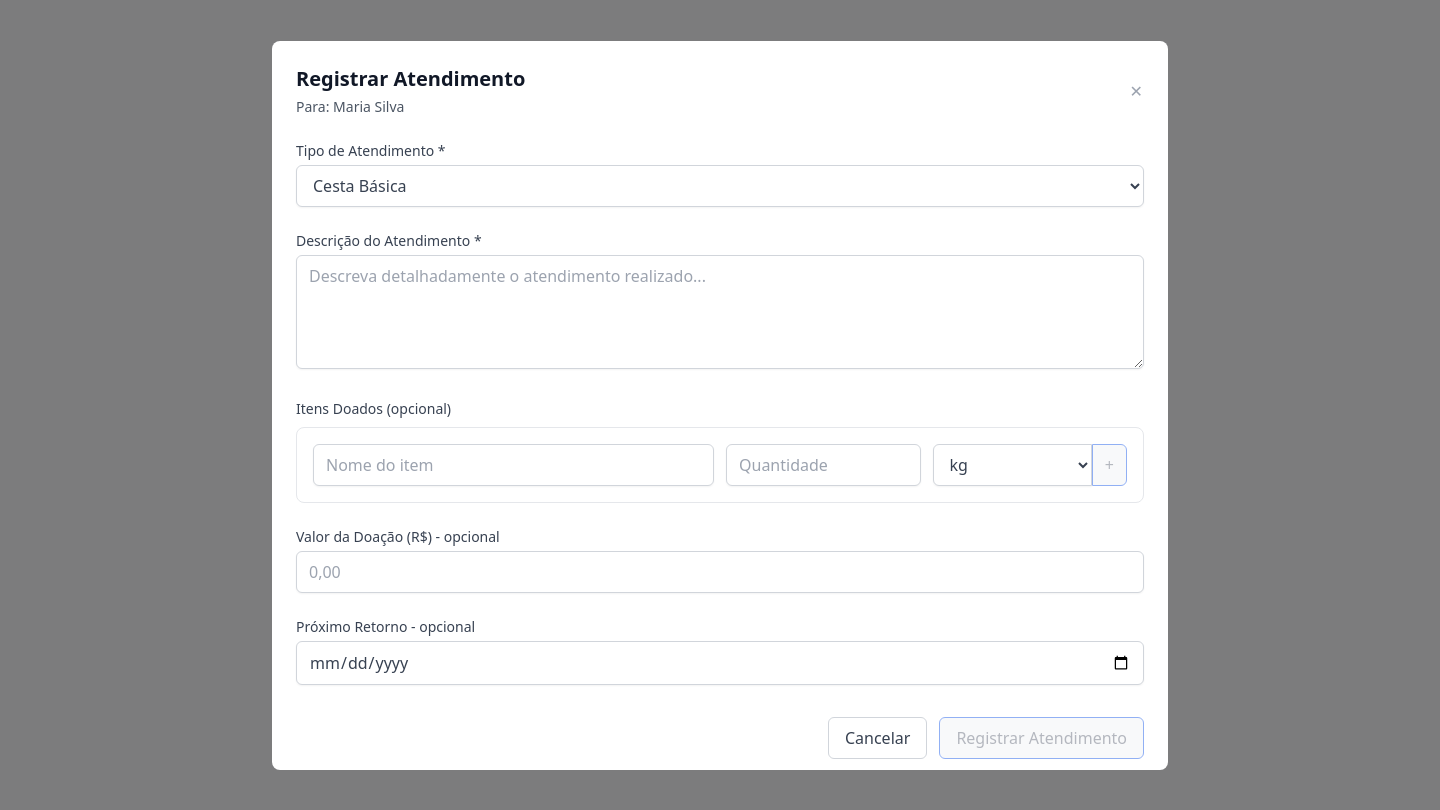
Test case: AtendimentoModal › Itens doados functionality › should allow removing an item
Step 1. Type "Feijao" into the field with placeholder "Nome do item" → (514, 464), box x1=313 y1=444 x2=714 y2=486
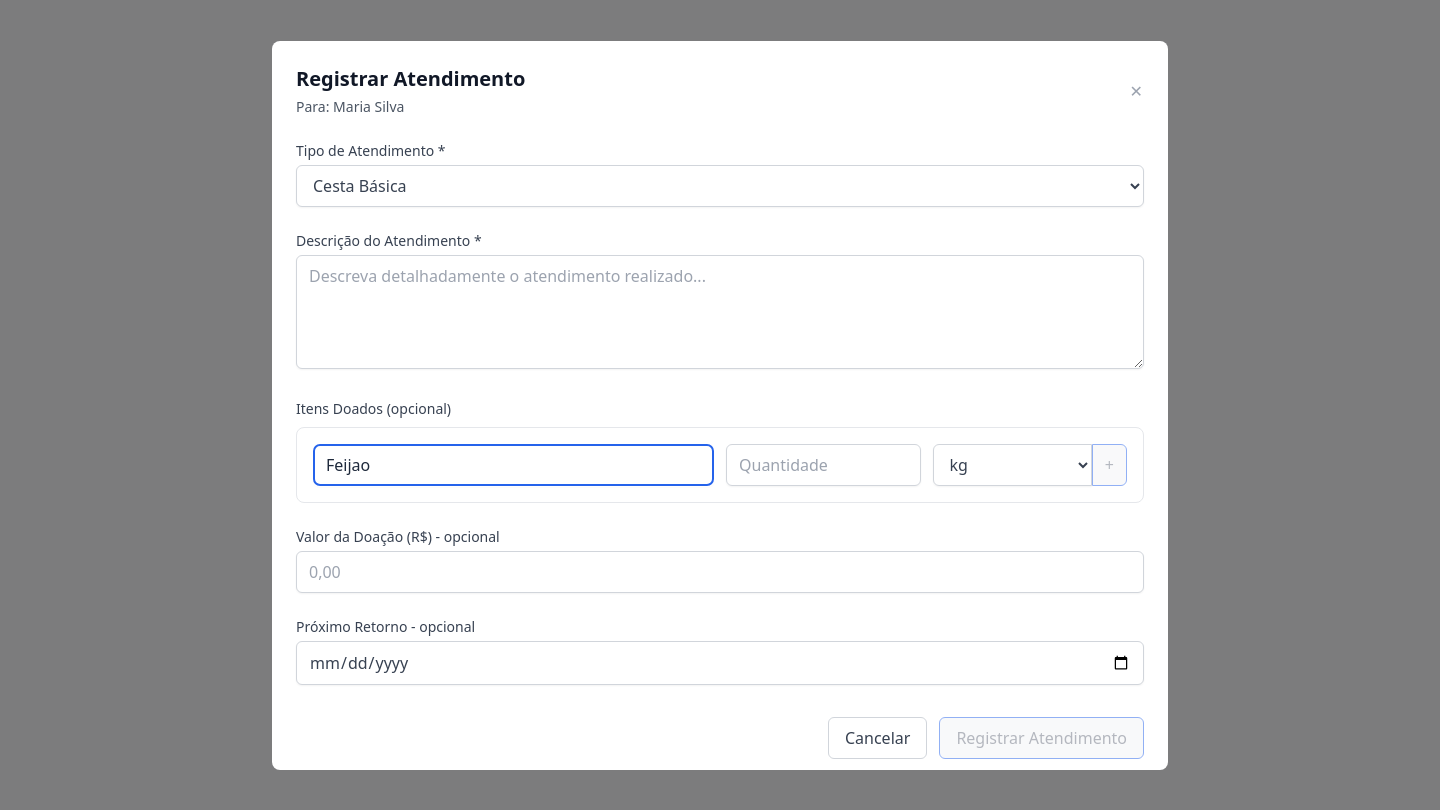
Step 2. Type "2" into the number field with placeholder "Quantidade" → (823, 464), box x1=726 y1=444 x2=920 y2=486
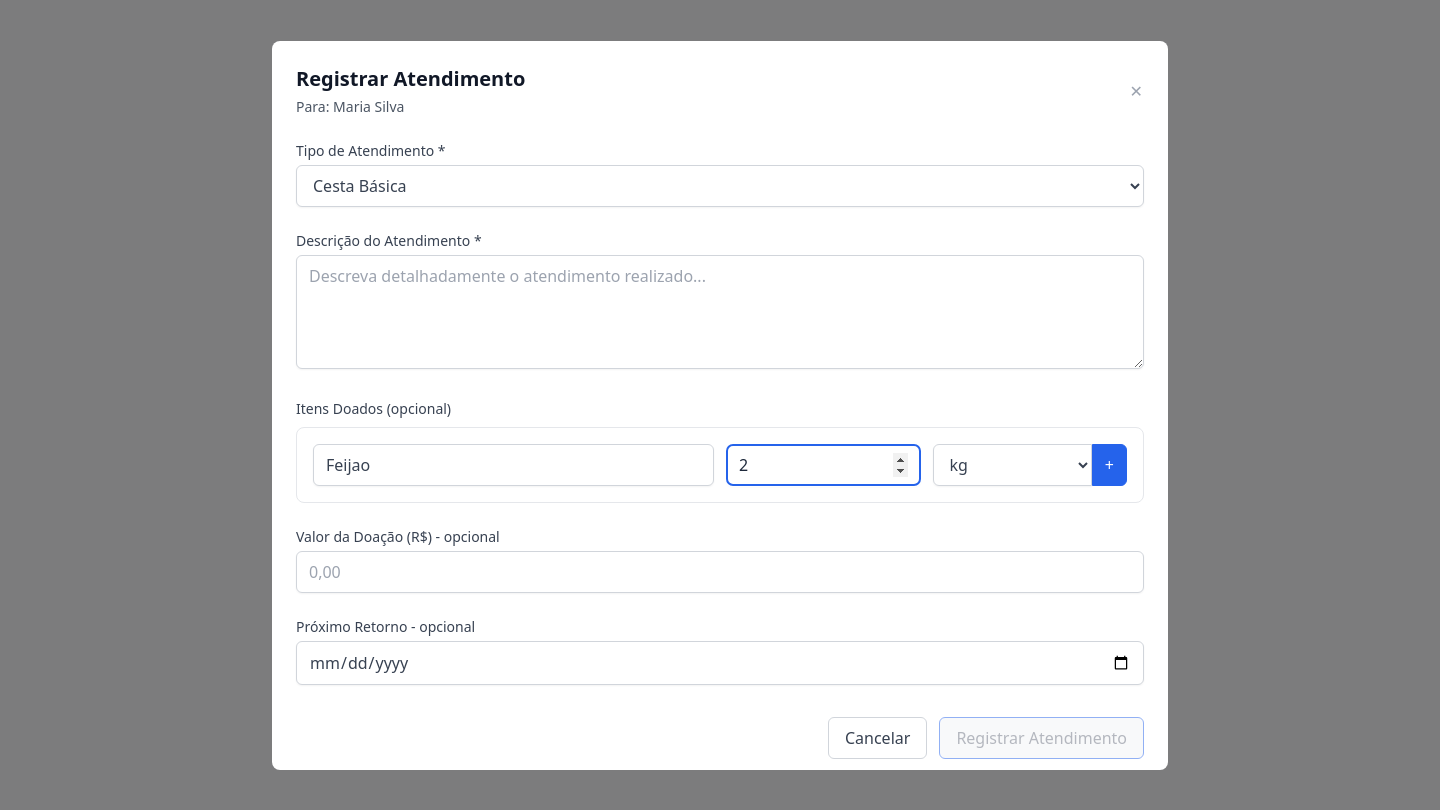
Step 3. Click the button "+" → (1109, 464), box x1=1092 y1=444 x2=1127 y2=486
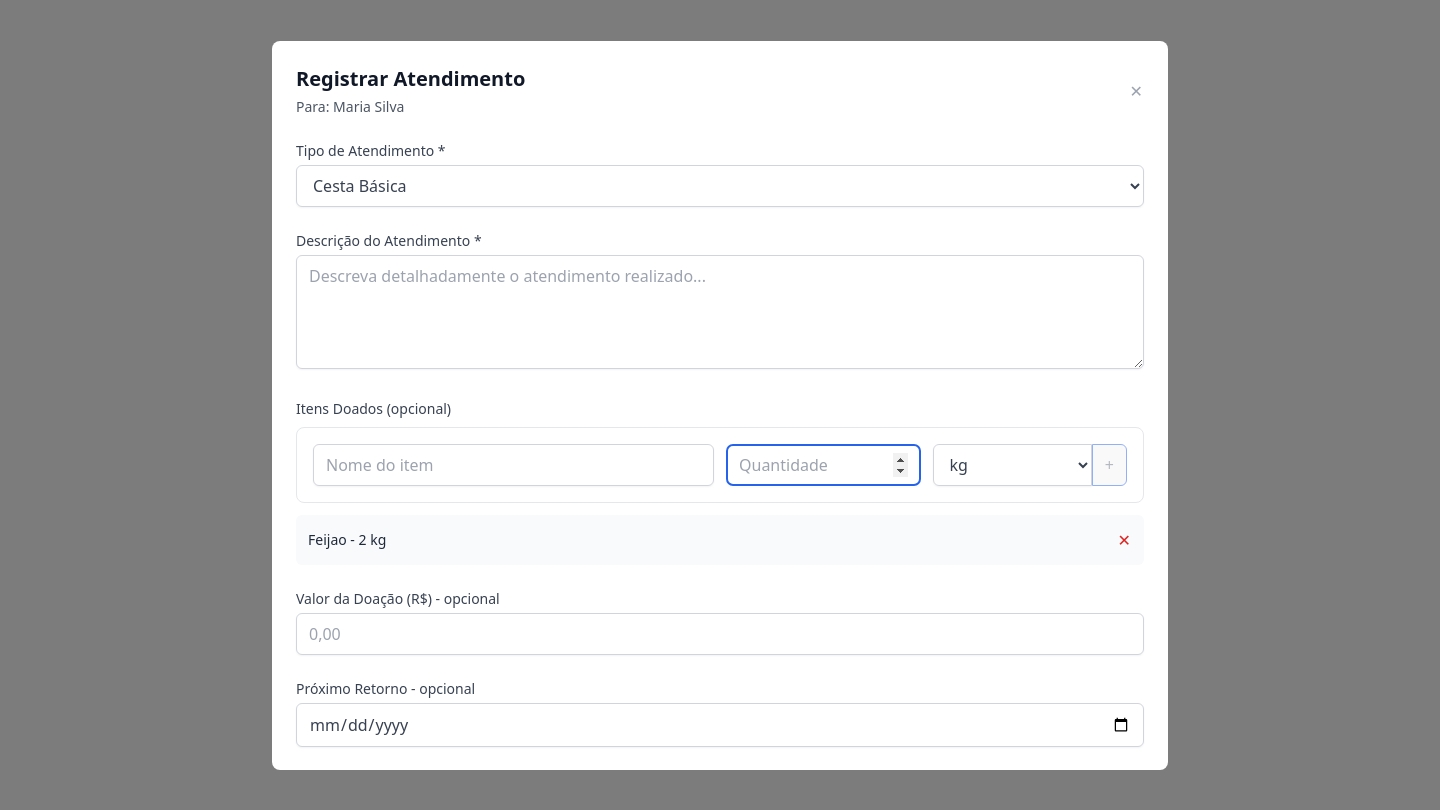
Check: the text "Feijao - 2 kg" is shown, box x1=308 y1=530 x2=386 y2=550
The first remove button should be for the item (not the modal close)
Step 4. Click the button "✕" in the row of "kg" → (1124, 540), box x1=1117 y1=526 x2=1132 y2=552
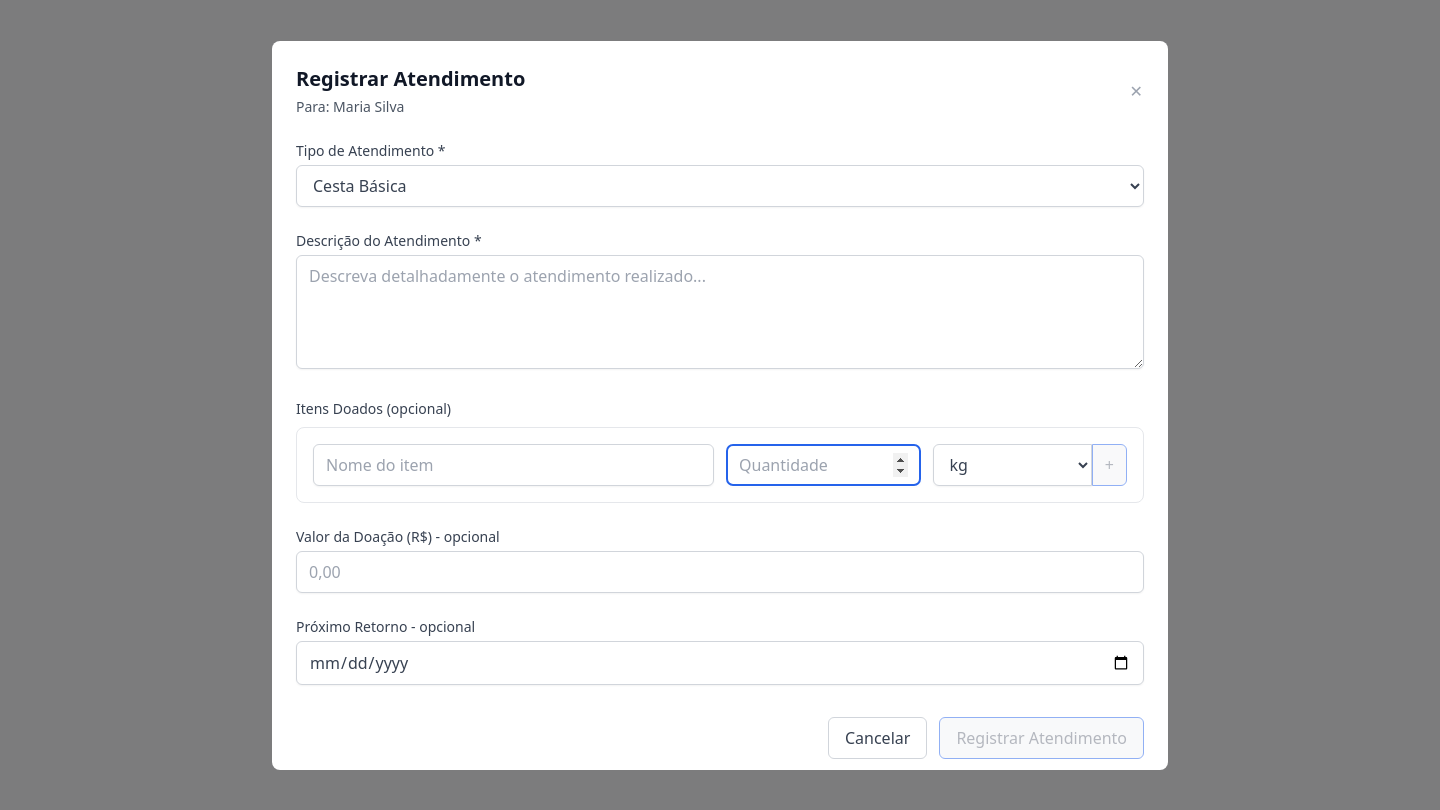
Check: the text "Feijao - 2 kg" is gone
